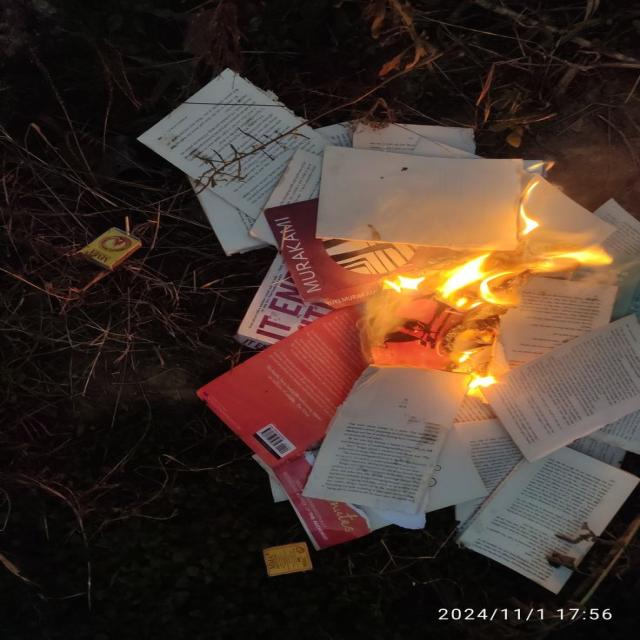fire: (441, 252, 514, 308), (531, 249, 613, 272)
